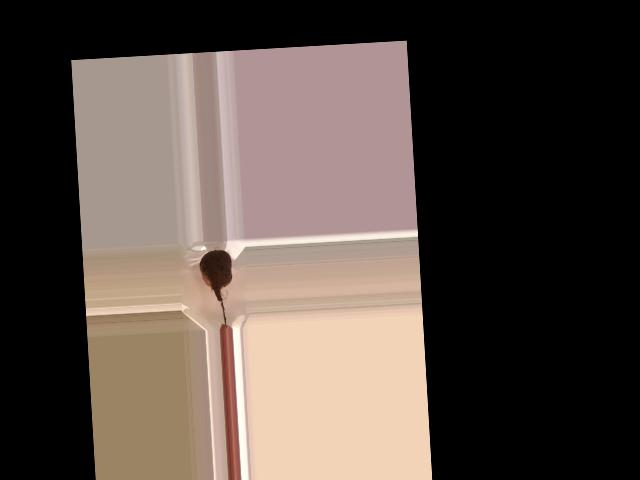beet: (198, 249, 234, 327)
